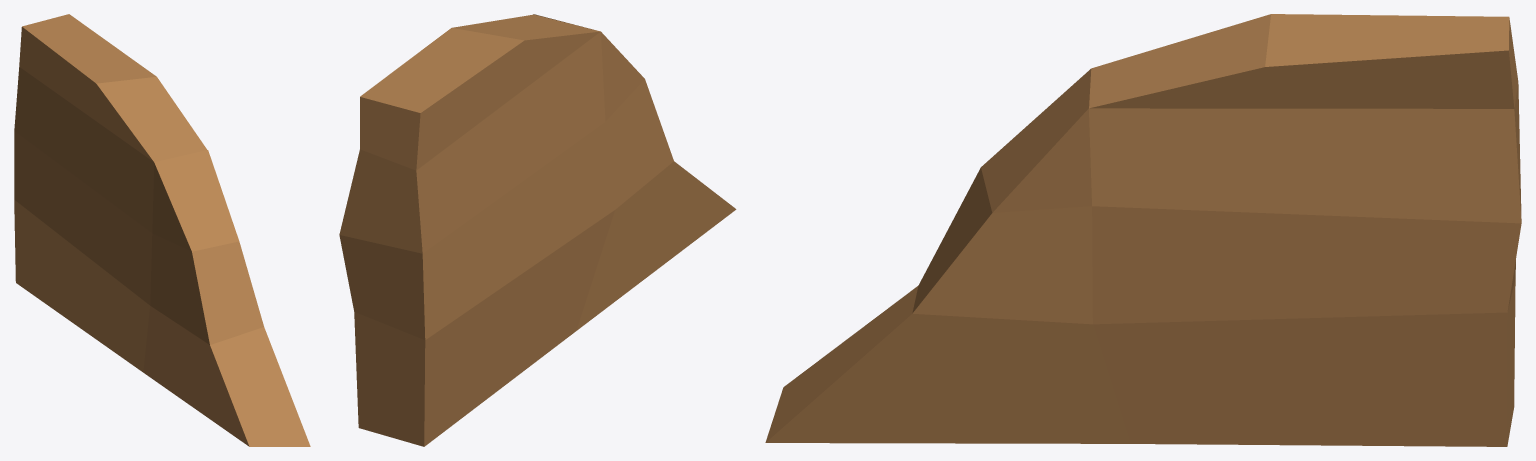
The model's file is Boat_RoundWood.fbx.
The picture shows the model from 3 angles, left to right: view 1: azimuth 30°, elevation 25°; view 2: azimuth 150°, elevation 25°; view 3: azimuth 270°, elevation 25°; orthographic projection. The views are drawn at different scales.
Parts seen in each view (by area): view 1: Boat_RoundWood; view 2: Boat_RoundWood; view 3: Boat_RoundWood.
Part boxes in pixels (bbox=[...]): Boat_RoundWood: bbox=[14, 14, 310, 446]; Boat_RoundWood: bbox=[339, 14, 736, 446]; Boat_RoundWood: bbox=[765, 14, 1521, 446].
Bounding box in the file's own units: 389 × 64.06 × 225.
